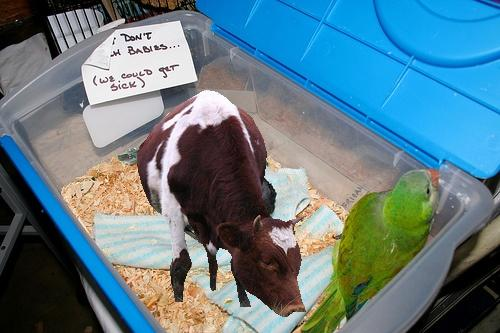tampered: (138, 91, 306, 317)
